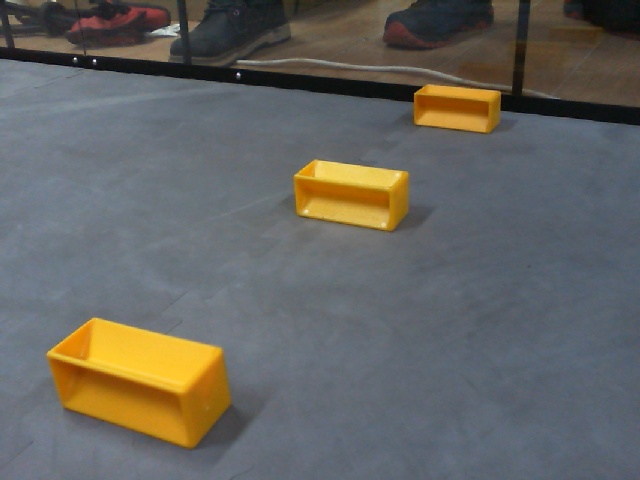YellowSample: (39, 315, 236, 453), (289, 158, 414, 235), (407, 78, 502, 139)
